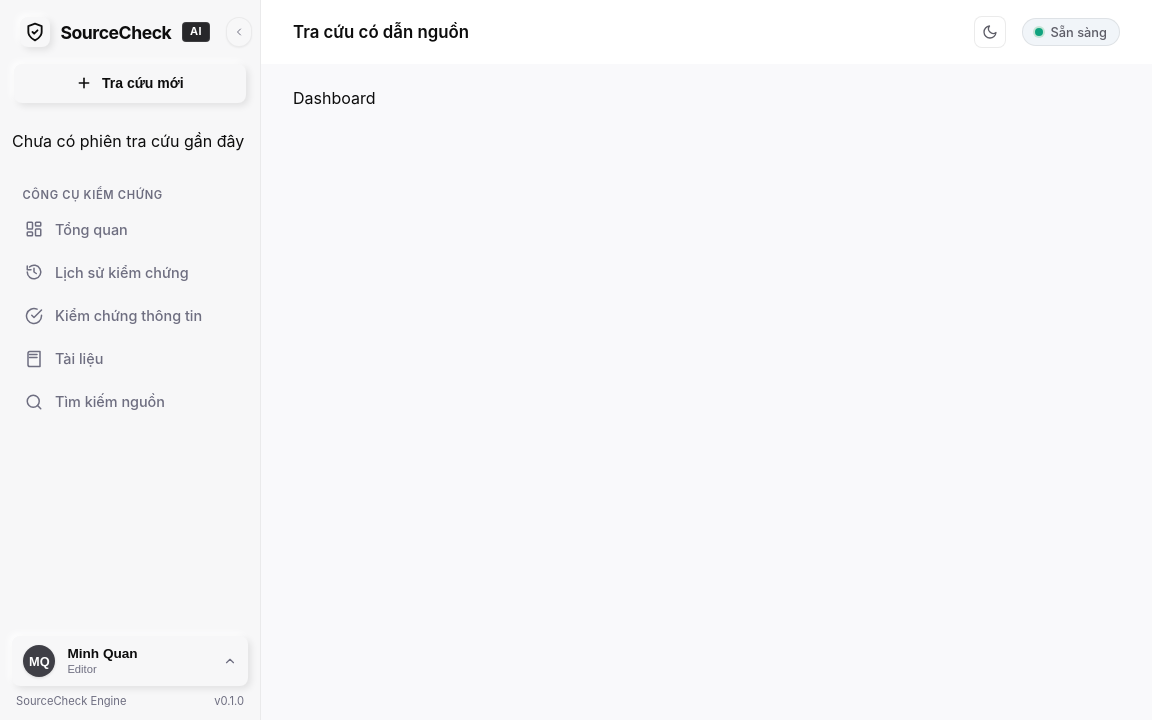
App Shell & Layout (FE-02, FE-04.2.1 & FE-04.2.2) › 6. Demo User Menu in Sidebar (FE-04.2.1) › renders user details in sidebar bottom and toggles account menu on click
Expected: the text with test id "sidebar-user-name" reads "Minh Quan", [67,646,138,661]
Expected: the text "editor" is shown, [67,663,97,675]
Click trigger to open menu
Click the button with test id "user-menu-trigger": point(130, 661) [12,636,248,686]
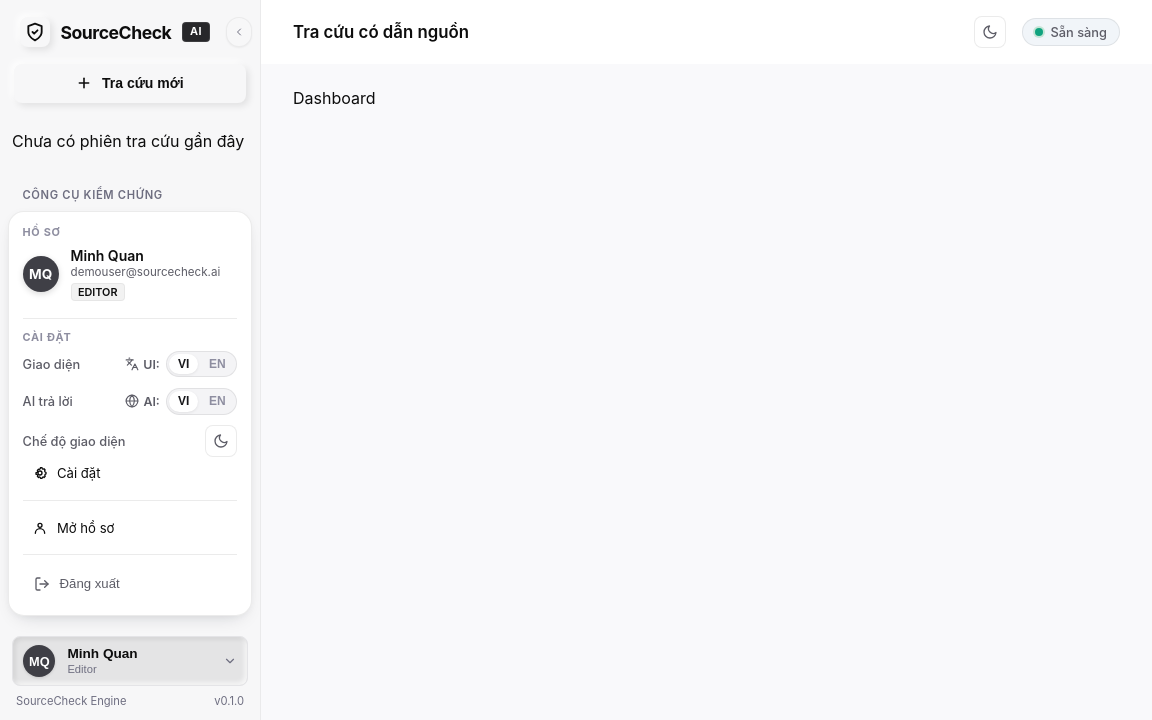
Now the menu with test id "user-account-menu" is shown, box [8,211,252,616]
Now the text with test id "dropdown-user-name" reads "Minh Quan", box [71,247,144,264]
Now the text with test id "dropdown-user-email" reads "demouser@sourcecheck.ai", box [71,265,220,279]
Click trigger again to close menu
Click the button with test id "user-menu-trigger": point(130, 661) [12,636,248,686]
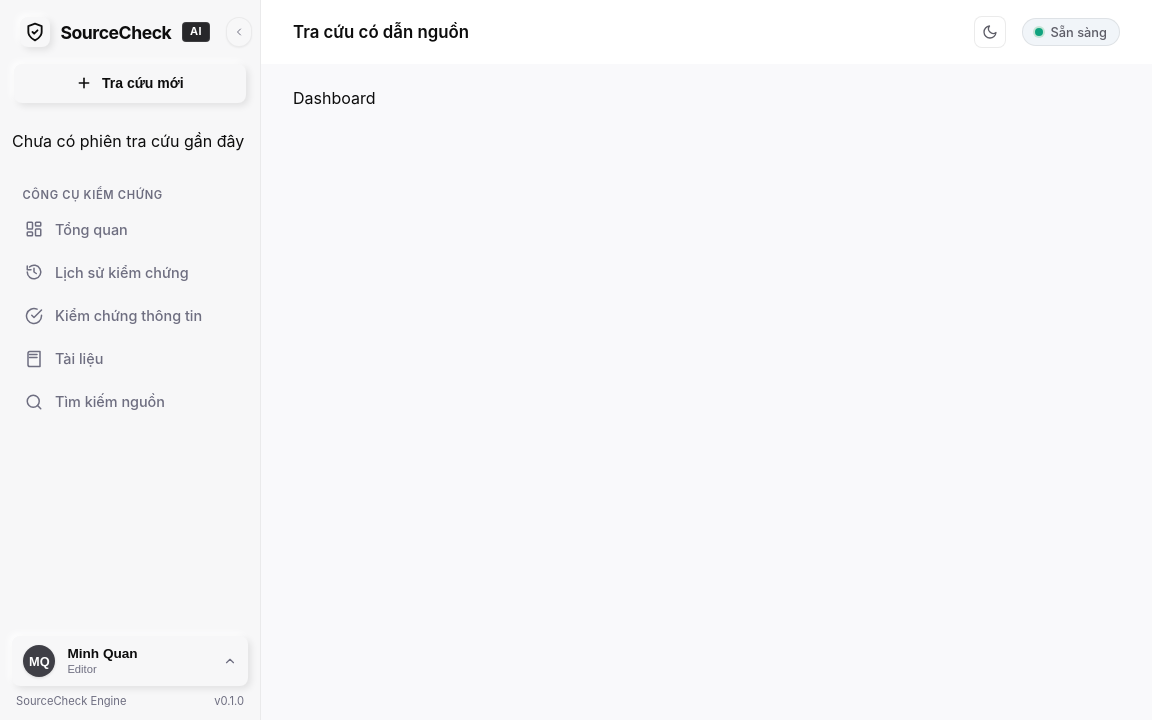
Now the menu with test id "user-account-menu" is gone
